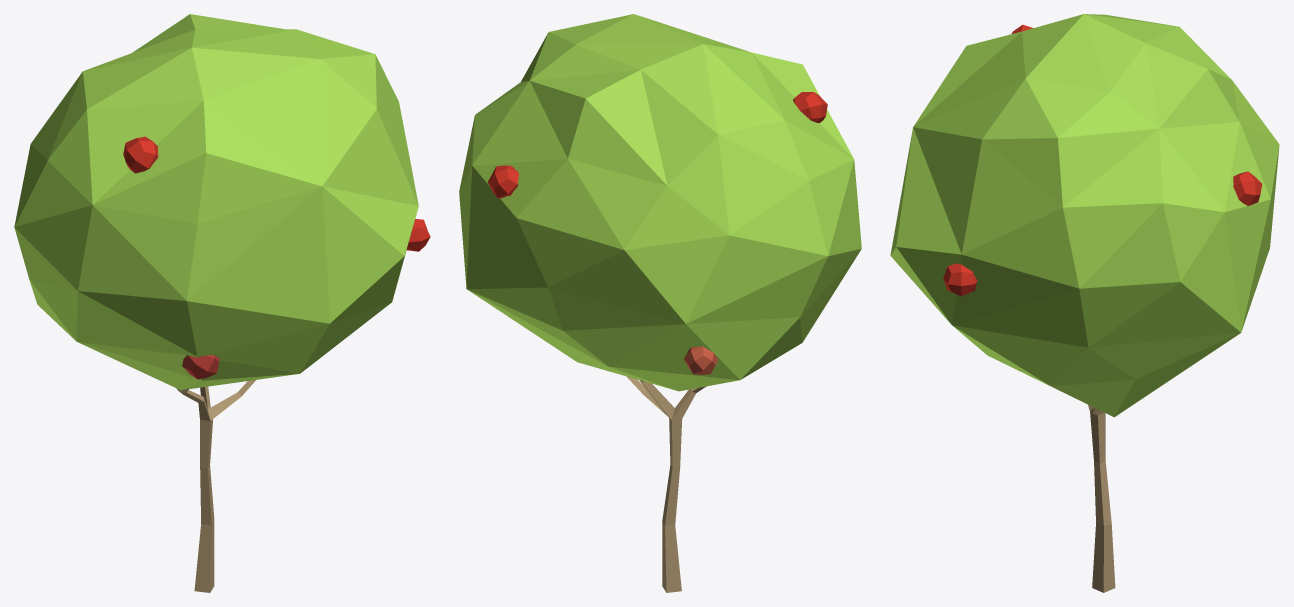
Rendered from Apple_Tree_Apples_s_02_LOD.fbx.
3 views of the same model, side by side, from view 1: azimuth 30°, elevation 25°; view 2: azimuth 150°, elevation 25°; view 3: azimuth 270°, elevation 25° (orthographic). The views are drawn at different scales.
Visible parts, largest first — view 1: Apple_Tree_Apples_s_02_LOD0; view 2: Apple_Tree_Apples_s_02_LOD0; view 3: Apple_Tree_Apples_s_02_LOD0.
Part boxes in pixels (x1,y1,x2,y2): Apple_Tree_Apples_s_02_LOD0: (14, 14, 430, 592); Apple_Tree_Apples_s_02_LOD0: (459, 14, 861, 592); Apple_Tree_Apples_s_02_LOD0: (890, 14, 1279, 592).
Size of what is drawn, in the model's own units: 223 by 320 by 201.
